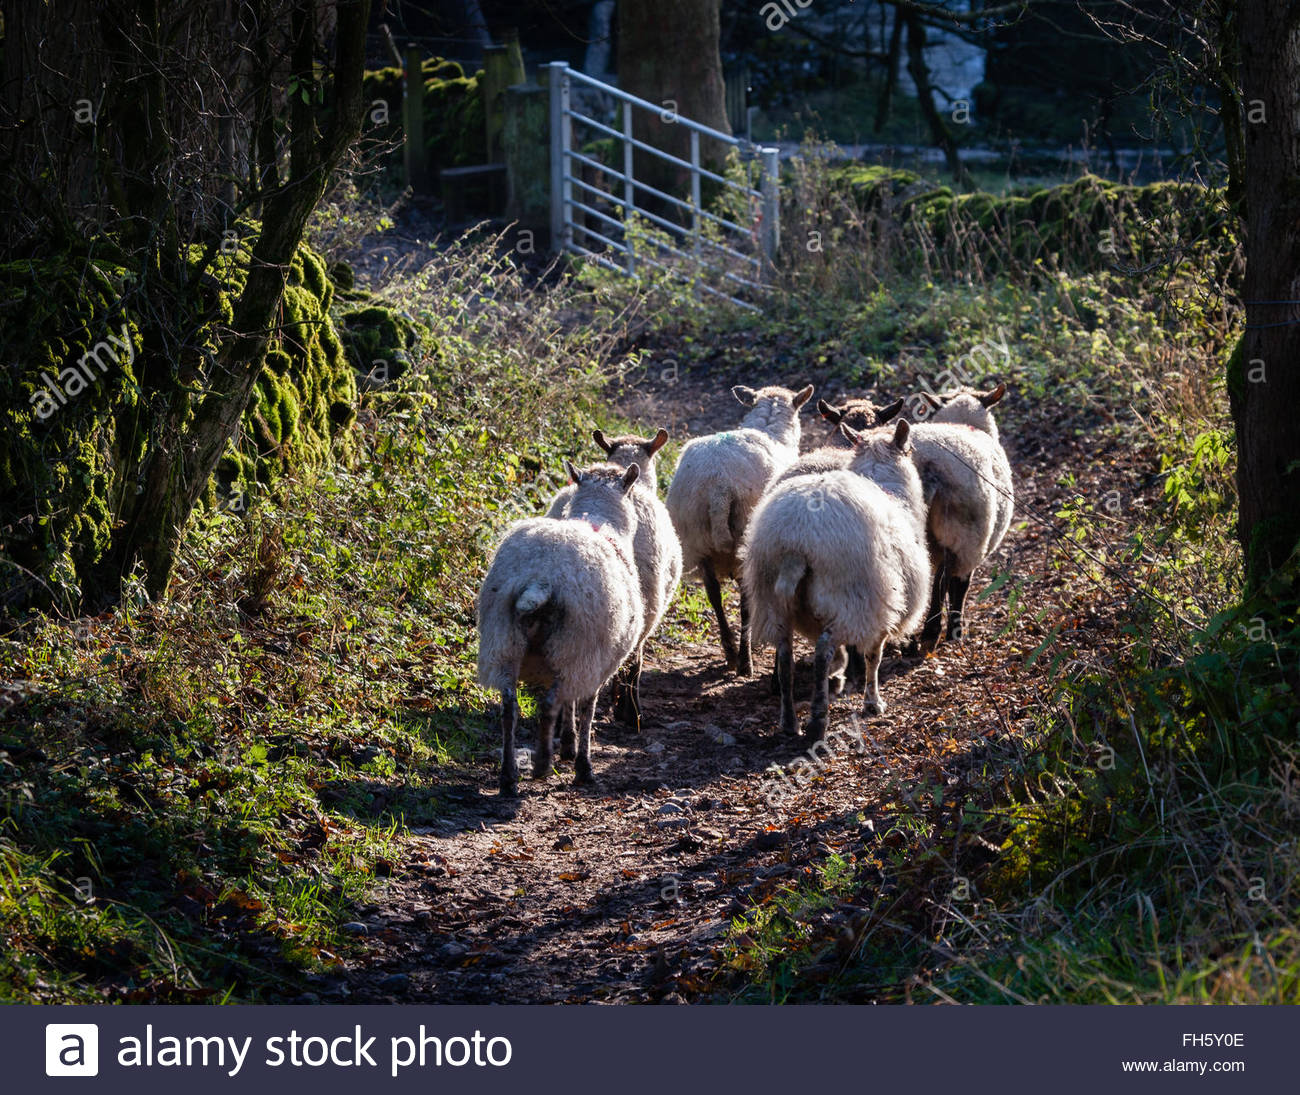sheep: (756, 451, 931, 708), (498, 469, 651, 722), (655, 375, 811, 599), (878, 379, 1020, 606), (571, 435, 701, 604)
